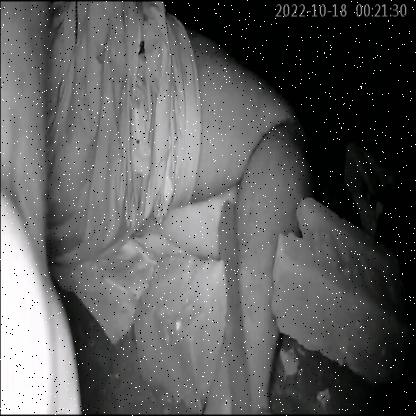leg: (182, 23, 320, 416)
